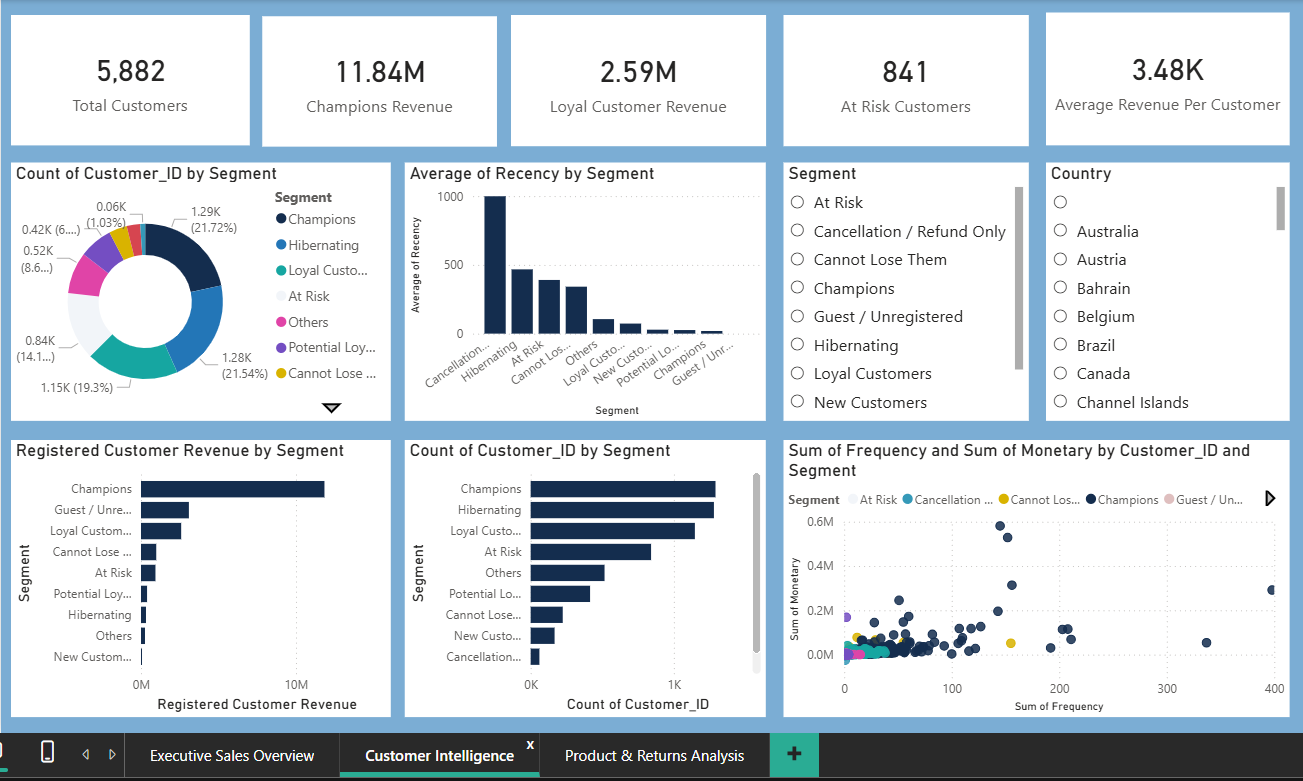

The dashboard page shown, as its layout file describes it:
{"tool":"powerbi","page":{"name":"Customer Intelligence","canvas":[1280,720],"ordinal":1},"visuals":[{"type":"card","fields":{"Values":["fact_sales.Total Customers"]},"box":[9.8,14.7,234.4,127.6],"z":0},{"type":"card","fields":{"Values":["dim_customer.Loyal Customer Revenue"]},"box":[500.6,14.7,250.3,128.8],"z":1000},{"type":"card","fields":{"Values":["fact_sales.Average Revenue Per Customer"]},"box":[1025.8,12.3,239.3,130.1],"z":2000},{"type":"card","fields":{"Values":["dim_customer.Champions Revenue"]},"box":[256.4,16,230.7,127.6],"z":3000},{"type":"card","fields":{"Values":["dim_customer.At Risk Customers"]},"box":[768.1,14.7,240.5,128.8],"z":4000},{"type":"donutChart","fields":{"Category":["dim_customer.Segment"],"Y":["Count(dim_customer.Customer_ID)"]},"box":[9.8,159.5,373,254],"z":5000},{"type":"clusteredBarChart","fields":{"Category":["dim_customer.Segment"],"Y":["fact_sales.Registered Customer Revenue"]},"box":[9.8,431.9,373,272.4],"z":6000},{"type":"scatterChart","fields":{"X":["Sum(dim_customer.Frequency)"],"Y":["Sum(dim_customer.Monetary)"],"Category":["dim_customer.Customer_ID"],"Series":["dim_customer.Segment"]},"box":[768.1,431.9,496.9,272.4],"z":7000},{"type":"clusteredColumnChart","fields":{"Category":["dim_customer.Segment"],"Y":["Avg(dim_customer.Recency)"]},"box":[396.3,159.5,354.6,254],"z":8000},{"type":"clusteredBarChart","fields":{"Category":["dim_customer.Segment"],"Y":["Count(dim_customer.Customer_ID)"]},"box":[396.3,431.9,354.6,272.4],"z":9000},{"type":"listSlicer","fields":{"Values":["dim_customer.Segment"]},"box":[768.1,159.5,240.5,254],"z":9001},{"type":"listSlicer","fields":{"Values":["dim_customer.Country"]},"box":[1025.8,159.5,239.3,254],"z":9002}]}

Visuals, with their boxes on the page's 1280x720 design canvas (x1, y1, x2, y2). These are canvas units, not pixel positions in the 1303x781 screenshot, which may show the page scaled, cropped or inside an application window:
card - fact_sales.Total Customers: l=10, t=15, r=244, b=142
card - dim_customer.Loyal Customer Revenue: l=501, t=15, r=751, b=144
card - fact_sales.Average Revenue Per Customer: l=1026, t=12, r=1265, b=142
card - dim_customer.Champions Revenue: l=256, t=16, r=487, b=144
card - dim_customer.At Risk Customers: l=768, t=15, r=1009, b=144
donutChart - dim_customer.Segment x Count(dim_customer.Customer_ID): l=10, t=160, r=383, b=414
clusteredBarChart - dim_customer.Segment x fact_sales.Registered Customer Revenue: l=10, t=432, r=383, b=704
scatterChart - Sum(dim_customer.Frequency) x Sum(dim_customer.Monetary): l=768, t=432, r=1265, b=704
clusteredColumnChart - dim_customer.Segment x Avg(dim_customer.Recency): l=396, t=160, r=751, b=414
clusteredBarChart - dim_customer.Segment x Count(dim_customer.Customer_ID): l=396, t=432, r=751, b=704
listSlicer - dim_customer.Segment: l=768, t=160, r=1009, b=414
listSlicer - dim_customer.Country: l=1026, t=160, r=1265, b=414
